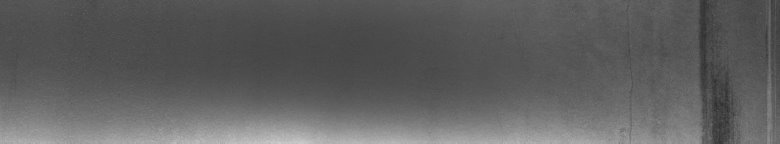ka: (693, 4, 776, 136)
